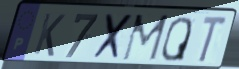7: (63, 12, 101, 60)
K: (31, 11, 68, 59)
M: (120, 13, 171, 63)
Q: (159, 15, 194, 63)
T: (196, 14, 230, 65)
X: (91, 12, 136, 62)
